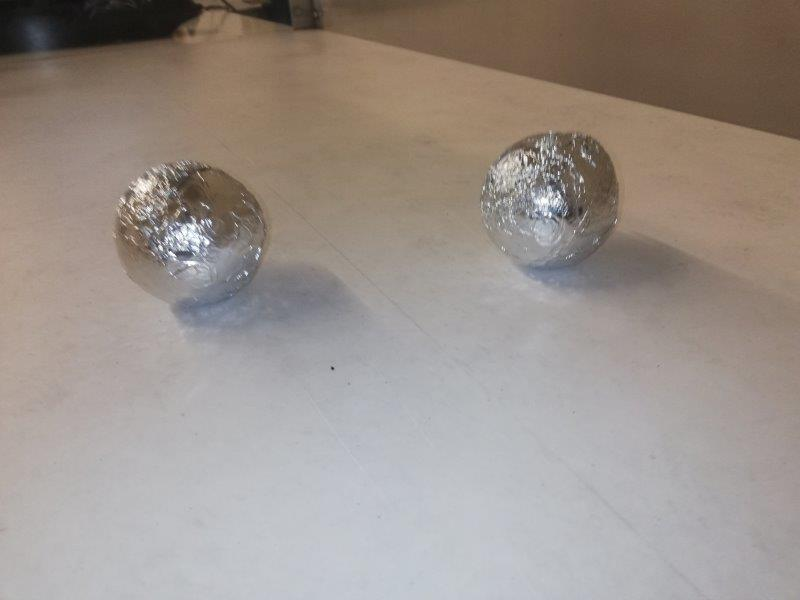bianca: (111, 161, 268, 307), (477, 130, 621, 268)
